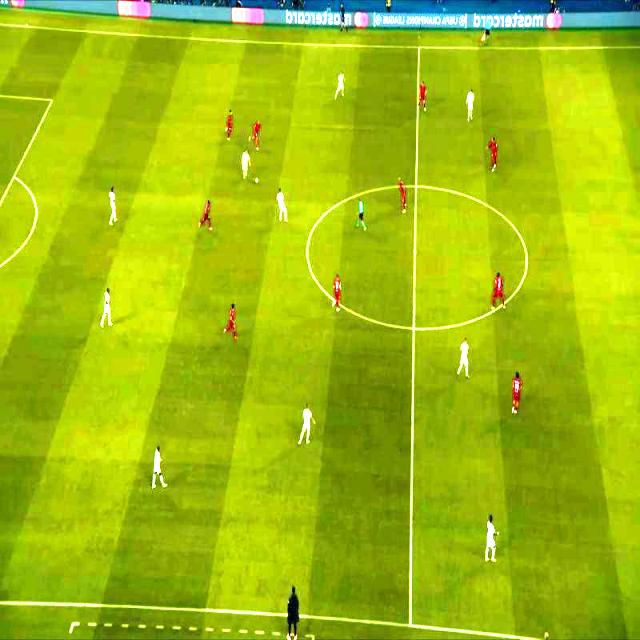bigarea_top_inner: (46, 94, 60, 108)
halfcircle_bottom: (407, 322, 421, 336)
halfcircle_top: (409, 180, 422, 194)
midline_bottom_intersection: (404, 617, 418, 633)
midline_top_intersection: (413, 39, 424, 56)
top_arc_area_intersection: (6, 165, 22, 189)
